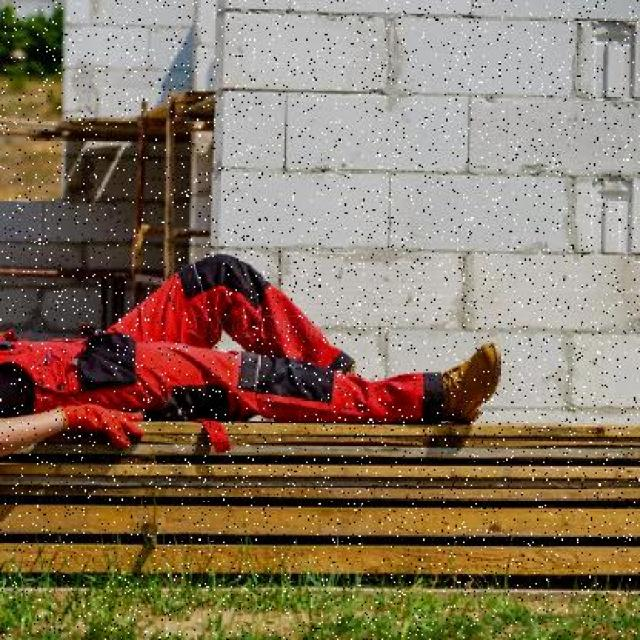shoes: (444, 342, 504, 426)
